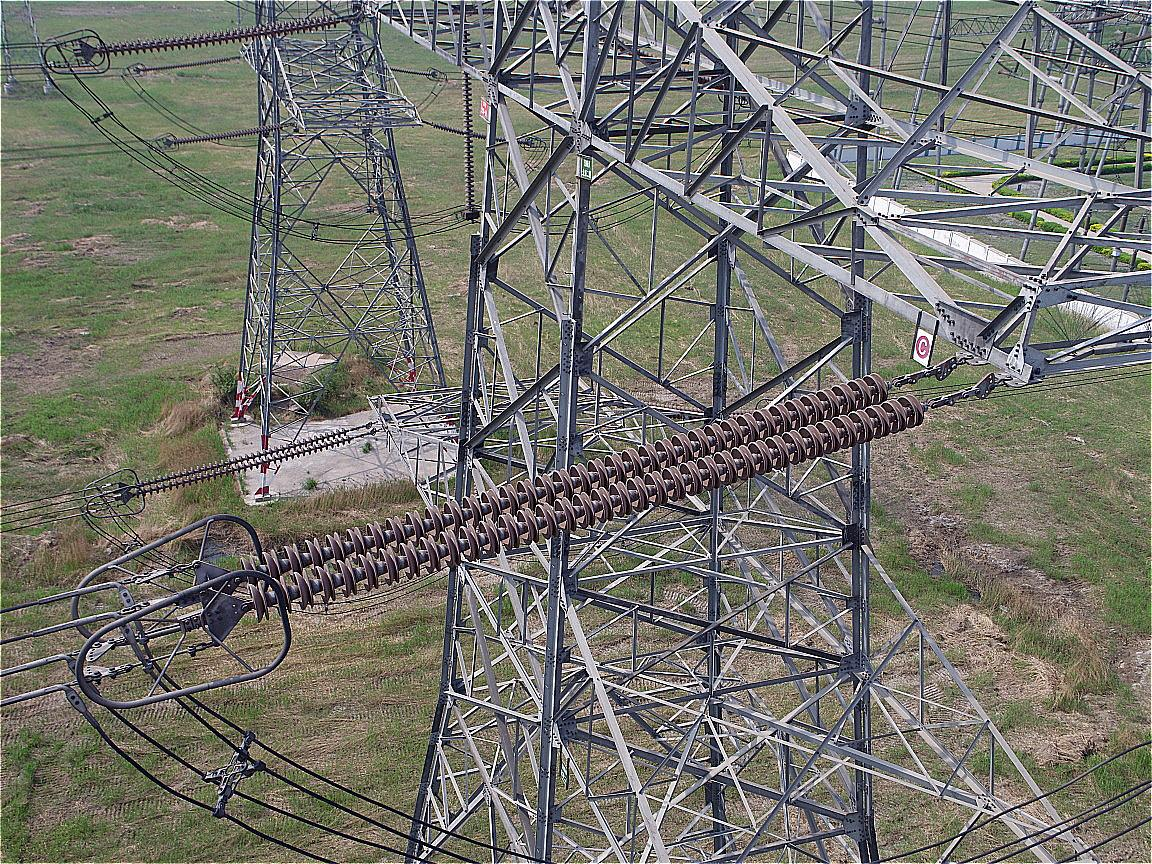insultor1: (124, 426, 363, 503)
insultor2: (232, 355, 945, 631)
